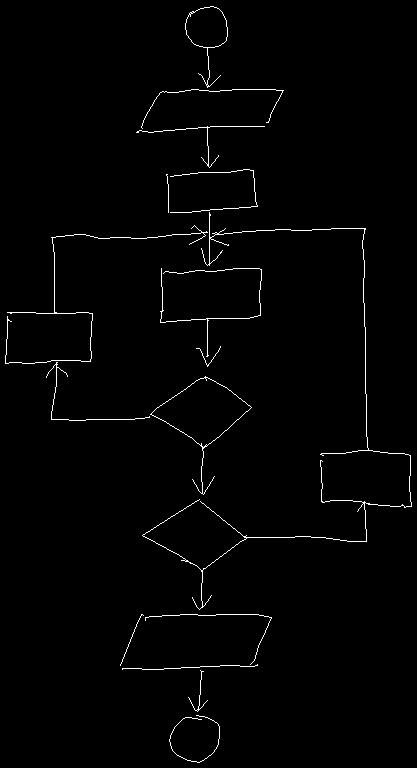arrow: (209, 228, 368, 449), (51, 225, 207, 313), (46, 362, 149, 420), (244, 501, 371, 541), (196, 318, 220, 366), (201, 212, 222, 265), (192, 444, 214, 494), (198, 47, 220, 87), (192, 568, 211, 609), (188, 670, 207, 711), (201, 126, 218, 167)
connection: (169, 715, 219, 762), (185, 6, 227, 47)
data: (120, 614, 271, 669), (136, 89, 283, 132)
decision: (142, 499, 246, 571), (150, 376, 251, 448)
process: (160, 268, 261, 322), (320, 450, 411, 507), (5, 312, 92, 363), (166, 169, 257, 212)
